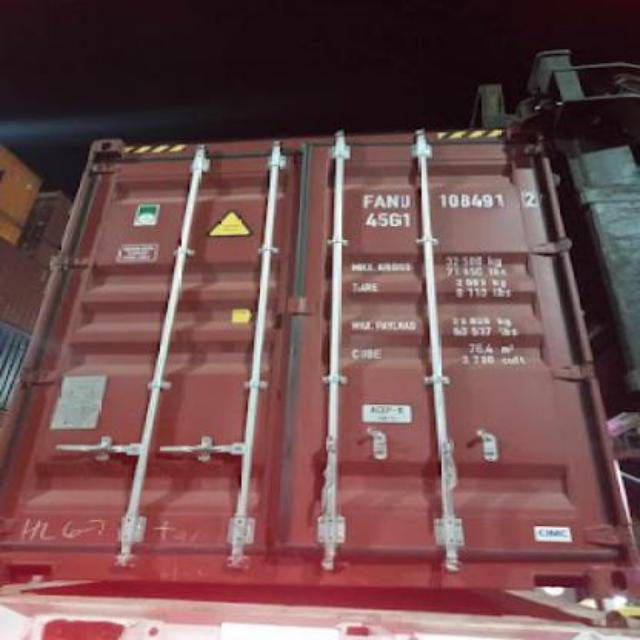0: (448, 189, 460, 207)
1: (494, 184, 508, 212), (438, 191, 448, 209)
2: (520, 188, 538, 206)
4: (468, 189, 482, 213)
8: (460, 189, 470, 215)
9: (482, 187, 494, 211)
A: (374, 191, 386, 207)
F: (362, 187, 374, 210)
N: (386, 188, 399, 210)
U: (398, 191, 414, 209)
